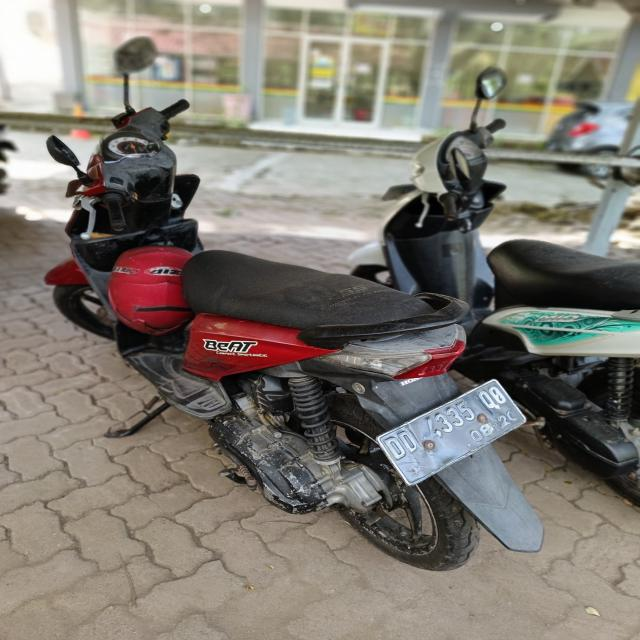plates: (377, 375, 522, 475)
